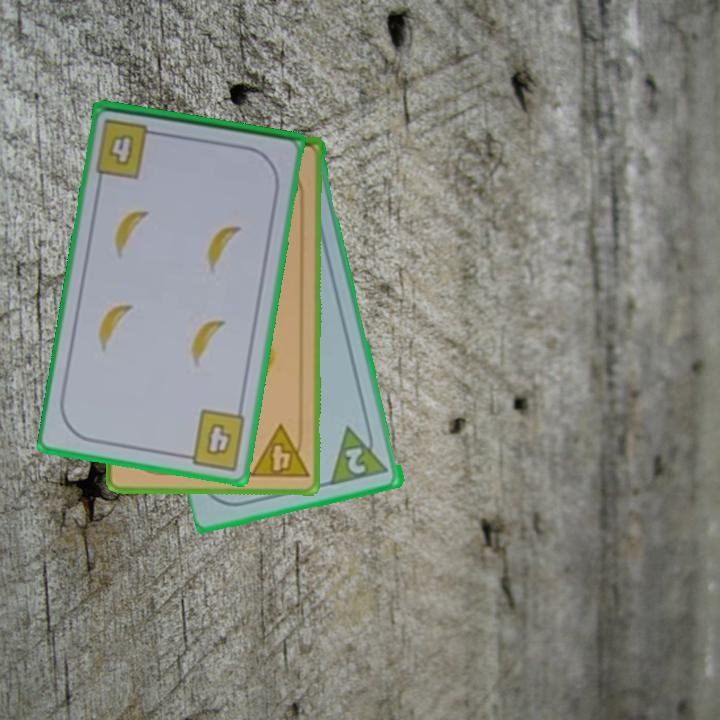2p: (328, 419, 392, 488)
4b: (178, 406, 249, 473), (92, 115, 164, 181)
4p: (246, 422, 311, 482)
